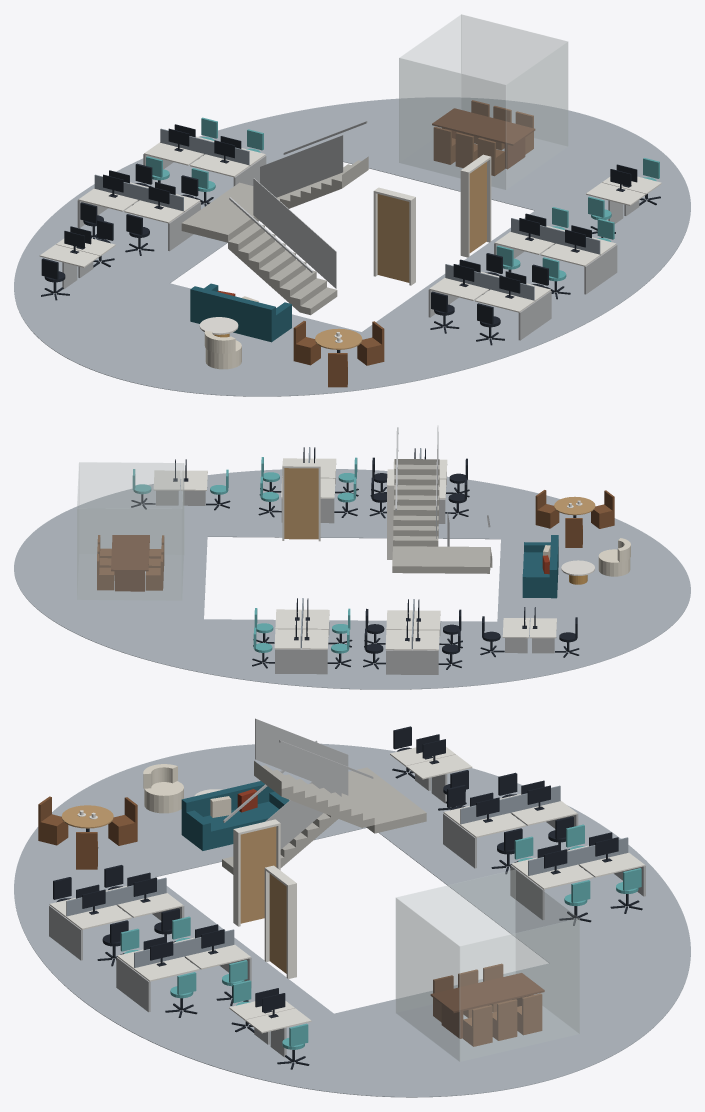
The picture shows the model from 3 angles, top to bottom: view 1: azimuth 30°, elevation 25°; view 2: azimuth 150°, elevation 25°; view 3: azimuth 270°, elevation 25°; orthographic projection. The views are drawn at different scales.
Visible parts, largest first — view 1: Floors, Furniture, Generic models, Stairs, Railings, Doors, Specialty equipment; view 2: Floors, Furniture, Generic models, Stairs, Doors, Specialty equipment, Railings; view 3: Floors, Furniture, Generic models, Doors, Stairs, Specialty equipment, Railings.
Part boxes in pixels (left/top/right/bottom): Floors: left=14, top=97, right=690, bottom=396; Furniture: left=39, top=100, right=661, bottom=387; Generic models: left=399, top=14, right=568, bottom=189; Stairs: left=181, top=156, right=368, bottom=315; Railings: left=229, top=121, right=367, bottom=288; Doors: left=373, top=154, right=491, bottom=285; Specialty equipment: left=64, top=124, right=637, bottom=298; Floors: left=14, top=469, right=690, bottom=689; Furniture: left=97, top=447, right=630, bottom=674; Generic models: left=77, top=462, right=184, bottom=600; Stairs: left=392, top=459, right=492, bottom=573; Doors: left=282, top=463, right=394, bottom=559; Specialty equipment: left=173, top=447, right=537, bottom=641; Railings: left=395, top=425, right=490, bottom=546; Floors: left=14, top=743, right=690, bottom=1097; Furniture: left=38, top=726, right=645, bottom=1069; Generic models: left=395, top=869, right=579, bottom=1061; Doors: left=233, top=819, right=296, bottom=978; Stairs: left=222, top=761, right=426, bottom=874; Specialty equipment: left=76, top=734, right=618, bottom=1018; Railings: left=223, top=718, right=373, bottom=849.
Bounding box in the file's own units: 17.67 × 4.03 × 14.29.
